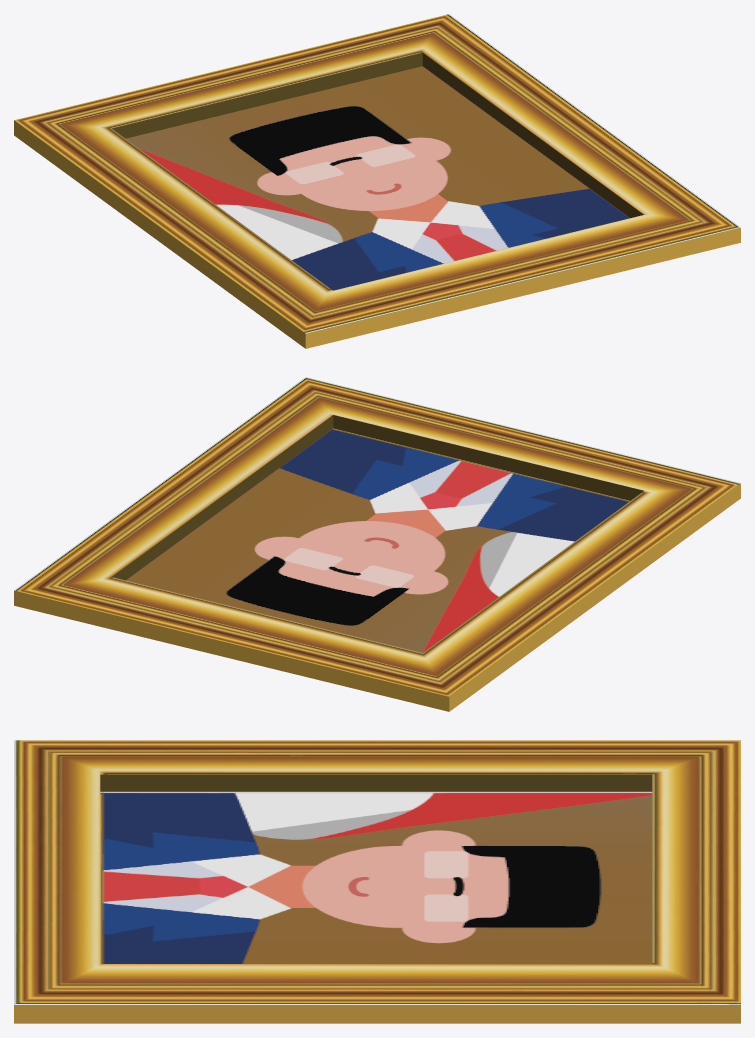
File: WAPRES.fbx
3 views of the same model, one above another, from view 1: azimuth 30°, elevation 25°; view 2: azimuth 150°, elevation 25°; view 3: azimuth 270°, elevation 25° (orthographic). The views are drawn at different scales.
Visible parts, largest first — view 1: WAPRES; view 2: WAPRES; view 3: WAPRES.
Boxes of the visible parts, bbox=[...] form: WAPRES: bbox=[14, 14, 740, 348]; WAPRES: bbox=[14, 377, 740, 711]; WAPRES: bbox=[14, 740, 740, 1023].
Size of the model in its own units: 430 by 16.8 by 499.
